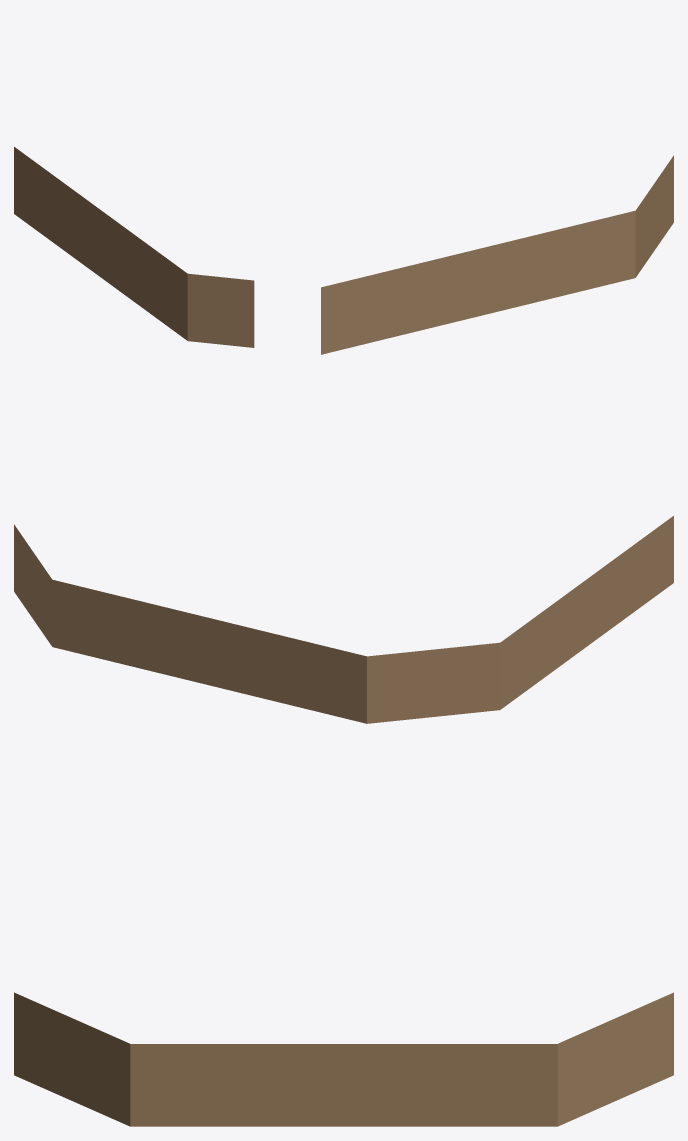
File: 1397-Buildings-shell-pieces-facade-bay-wall-round-an-opening-reveals-sill-head-emitBa.glb
3 renders of one model, top to bottom at view 1: azimuth 30°, elevation 25°; view 2: azimuth 150°, elevation 25°; view 3: azimuth 270°, elevation 25°, orthographic. The views are drawn at different scales.
Parts seen in each view (by area): view 1: emitBay; view 2: emitBay; view 3: emitBay.
Part boxes in pixels (x1,y1,x2,y2): emitBay: (14, 147, 673, 354); emitBay: (14, 516, 673, 723); emitBay: (14, 992, 673, 1126).
Bounding box in the file's own units: 23 × 3.05 × 22.
